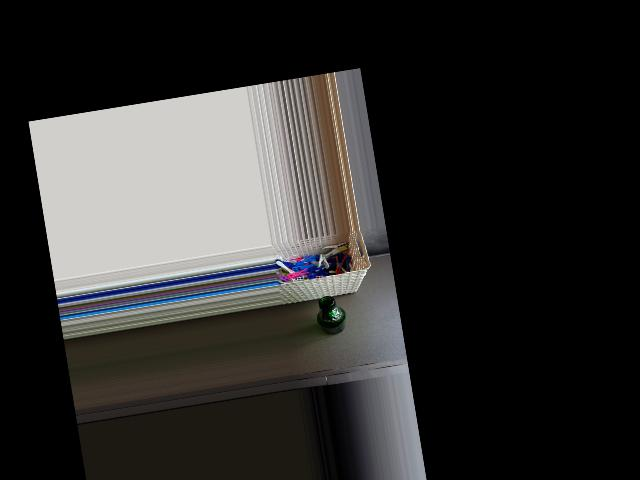beer: (313, 294, 349, 337)
